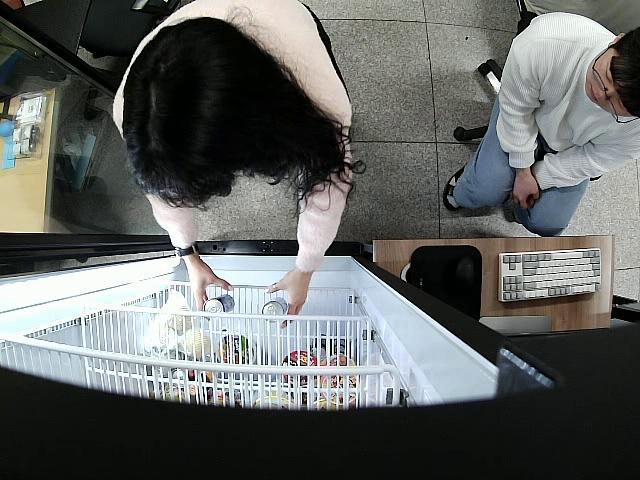00_hand: (266, 273, 307, 329), (188, 263, 235, 307), (511, 173, 541, 214)
